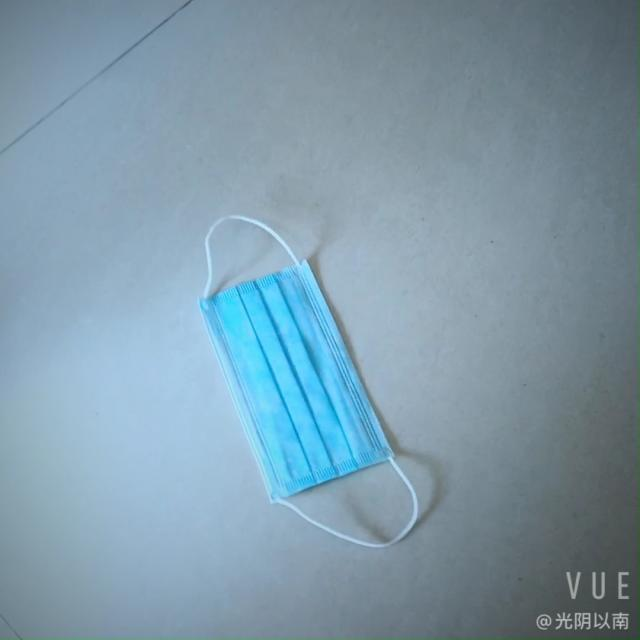face mask: (190, 259, 390, 506)
